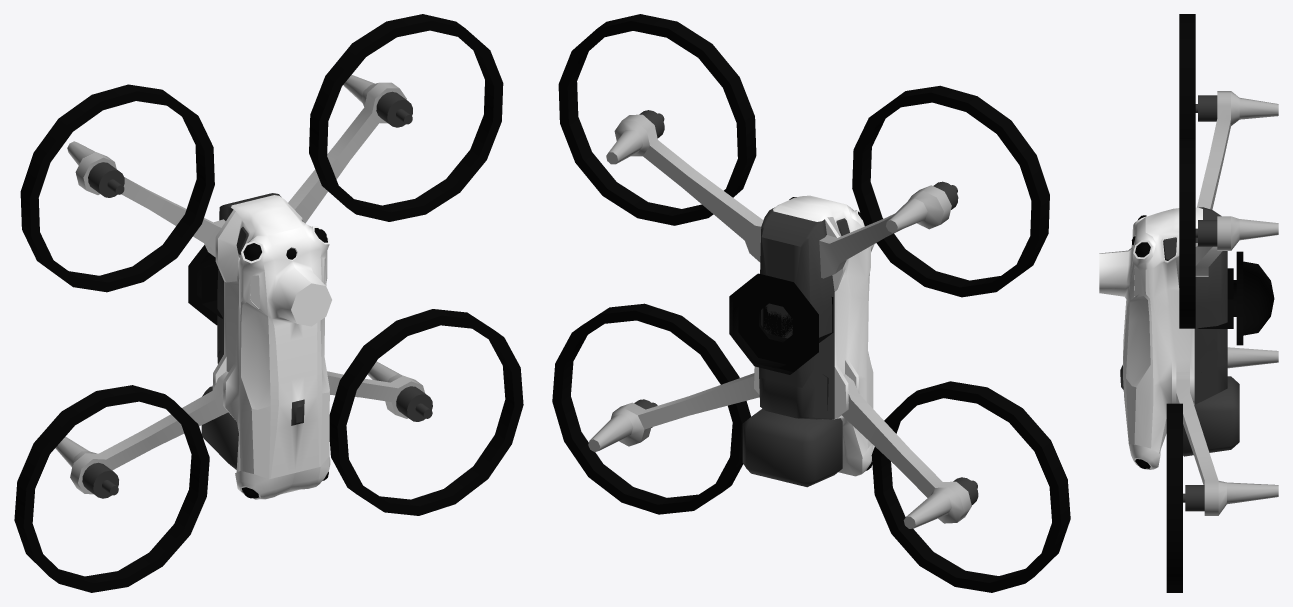
The model's file is DJI_Matrice_4_visual.obj.
3 renders of one model, left to right at view 1: azimuth 30°, elevation 25°; view 2: azimuth 150°, elevation 25°; view 3: azimuth 270°, elevation 25°, orthographic. The views are drawn at different scales.
Visible parts, largest first — view 1: DJI_Matrice_4_visual.001; view 2: DJI_Matrice_4_visual.001; view 3: DJI_Matrice_4_visual.001.
Part boxes in pixels (bbox=[...]): DJI_Matrice_4_visual.001: bbox=[14, 14, 523, 592]; DJI_Matrice_4_visual.001: bbox=[552, 14, 1070, 592]; DJI_Matrice_4_visual.001: bbox=[1099, 14, 1278, 592].
Size of the model in its own units: 4.31 by 4.01 by 1.51.
